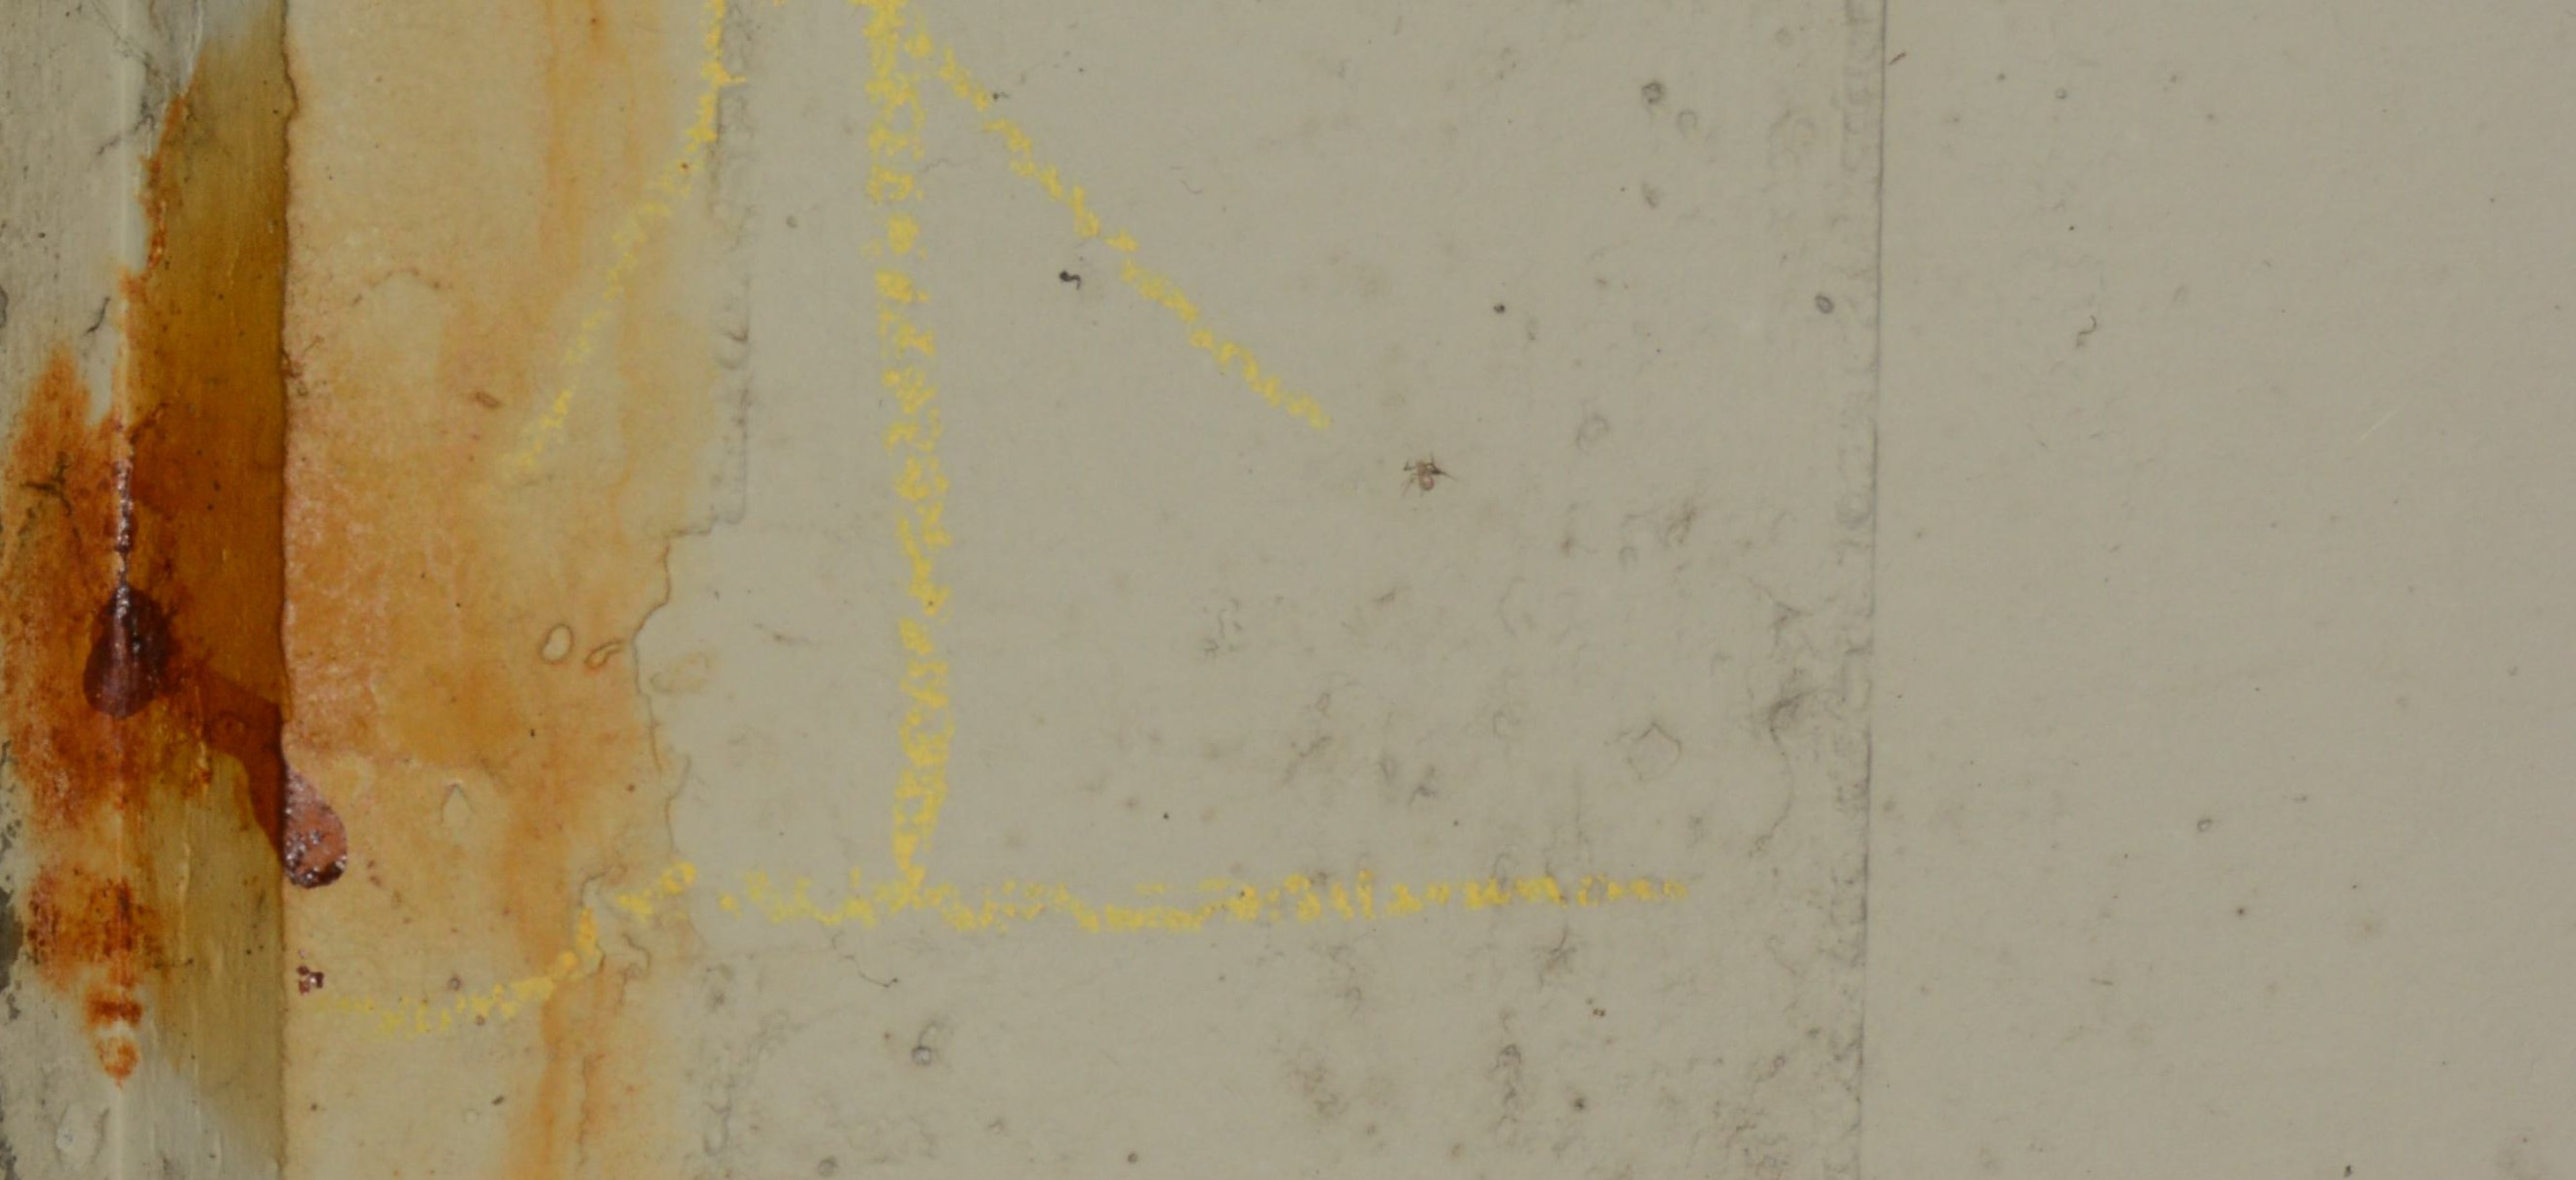Corrosion: (2, 2, 749, 1180)
